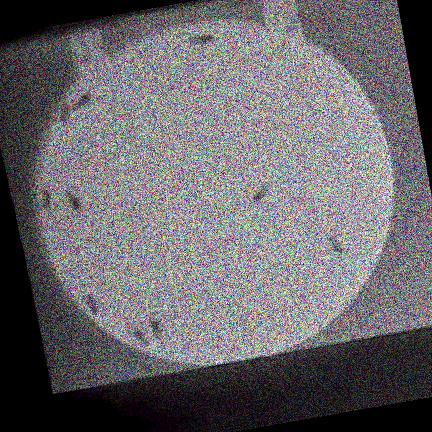fly: (58, 90, 94, 121), (70, 90, 94, 112), (251, 183, 269, 206), (65, 190, 81, 214), (327, 236, 344, 255), (149, 316, 162, 340), (130, 328, 147, 346), (38, 188, 50, 212), (189, 34, 215, 45), (83, 295, 97, 315)
